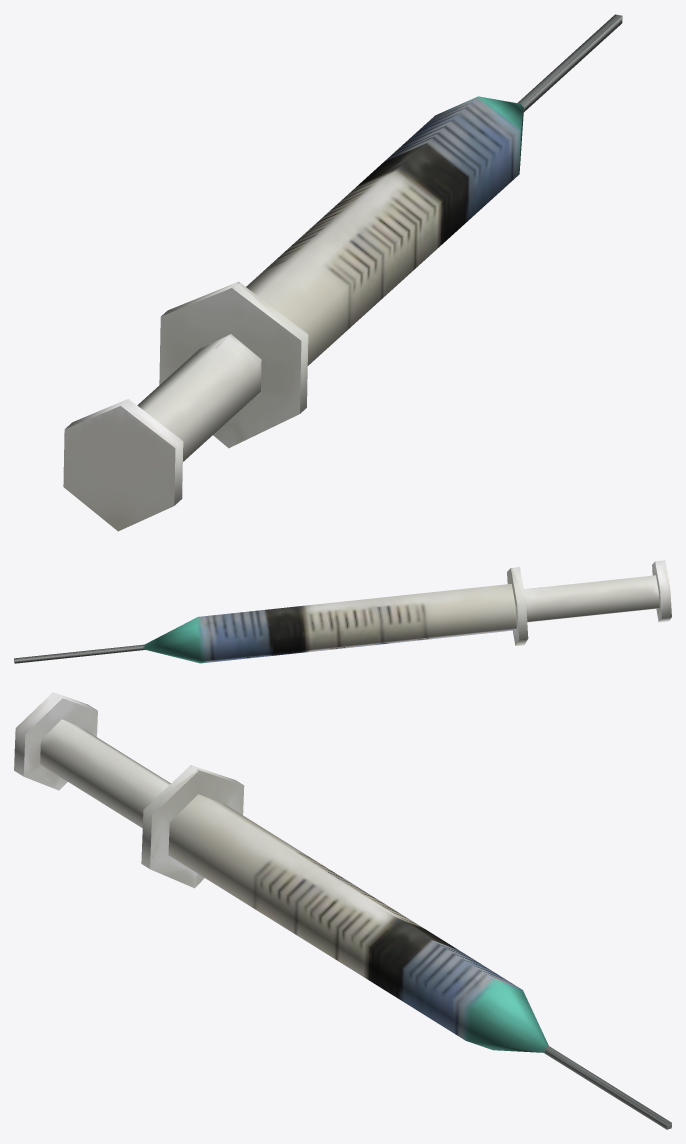
File: ShaShouJia_01_zhentong_01.FBX
3 renders of one model, top to bottom at view 1: azimuth 30°, elevation 25°; view 2: azimuth 150°, elevation 25°; view 3: azimuth 270°, elevation 25°, orthographic. The views are drawn at different scales.
Visible parts, largest first — view 1: ShaShouJia_01_zhentong_01; view 2: ShaShouJia_01_zhentong_01; view 3: ShaShouJia_01_zhentong_01.
Boxes of the visible parts, x1,y1,x2,y2 form: ShaShouJia_01_zhentong_01: (63,14,622,531); ShaShouJia_01_zhentong_01: (14,560,671,663); ShaShouJia_01_zhentong_01: (14,692,671,1129).
Bounding box in the file's own units: 121 × 19.43 × 95.76.
